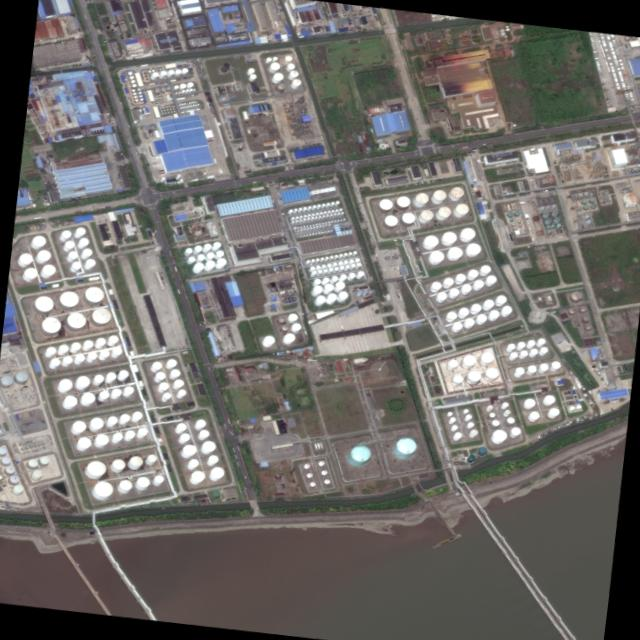storage-tank: (394, 436, 416, 455), (32, 294, 53, 313), (57, 289, 78, 308), (348, 444, 370, 462), (90, 306, 110, 325), (64, 311, 85, 329), (83, 285, 104, 303), (40, 316, 60, 334), (92, 480, 113, 497), (85, 460, 106, 477), (440, 230, 456, 244), (446, 245, 462, 259), (459, 226, 474, 240), (491, 428, 506, 442), (464, 242, 480, 255), (422, 234, 438, 247), (394, 195, 409, 208), (79, 391, 94, 404), (93, 433, 108, 446), (75, 436, 90, 449), (180, 443, 195, 456), (88, 416, 103, 429), (208, 466, 223, 479), (40, 263, 55, 276), (436, 205, 450, 218), (75, 375, 89, 388), (71, 420, 85, 433), (31, 234, 45, 247), (400, 211, 414, 224), (413, 192, 428, 204), (377, 198, 392, 210), (428, 250, 443, 262), (57, 378, 72, 390), (110, 458, 125, 470), (62, 395, 77, 407), (13, 370, 28, 382), (200, 440, 215, 452), (418, 208, 433, 220), (382, 214, 397, 226), (449, 186, 463, 198), (431, 189, 445, 201), (454, 203, 468, 215), (461, 354, 475, 366), (466, 370, 480, 382), (128, 455, 142, 467), (135, 476, 149, 488), (117, 479, 131, 491), (189, 470, 203, 482), (479, 351, 493, 363), (36, 249, 50, 261), (17, 252, 31, 264), (22, 267, 36, 279), (484, 367, 497, 379), (0, 374, 13, 386), (569, 290, 581, 301), (523, 397, 534, 408), (542, 394, 554, 404), (262, 335, 274, 345), (282, 332, 294, 342), (485, 274, 496, 284), (268, 61, 279, 71), (110, 387, 121, 397), (194, 418, 205, 428), (482, 298, 493, 308), (457, 306, 468, 316), (429, 281, 441, 290), (81, 339, 93, 348), (48, 357, 60, 366), (86, 350, 96, 360), (528, 410, 538, 420), (38, 455, 48, 465), (131, 410, 141, 420), (124, 429, 134, 439), (337, 290, 347, 300), (435, 291, 446, 300), (454, 273, 465, 282), (472, 279, 483, 288), (466, 269, 477, 278), (479, 264, 490, 273), (457, 36, 468, 45), (165, 358, 176, 367), (150, 361, 161, 370), (172, 378, 183, 387), (69, 341, 80, 350), (97, 390, 108, 399), (110, 346, 121, 355), (98, 349, 109, 358), (73, 353, 84, 362), (92, 374, 103, 383), (446, 359, 457, 368), (451, 374, 462, 383), (547, 407, 558, 416), (509, 426, 520, 435), (152, 474, 163, 483), (26, 458, 37, 467), (31, 469, 42, 478), (0, 455, 11, 464), (8, 474, 19, 483), (136, 427, 147, 436), (118, 413, 129, 422), (111, 432, 122, 441), (178, 432, 189, 441), (206, 454, 217, 463), (77, 237, 88, 246), (445, 311, 456, 320), (500, 305, 511, 314), (475, 313, 486, 322), (451, 321, 462, 330), (513, 366, 524, 375), (94, 337, 105, 346), (286, 312, 297, 321), (460, 283, 470, 292), (442, 277, 452, 286), (448, 287, 458, 296), (272, 72, 282, 81), (57, 344, 67, 353), (169, 368, 179, 377), (154, 371, 164, 380), (157, 381, 167, 390), (45, 346, 55, 355), (61, 355, 71, 364), (117, 369, 127, 378), (105, 371, 115, 380), (123, 385, 133, 394), (145, 453, 155, 462), (4, 465, 14, 474), (187, 458, 197, 467), (106, 415, 116, 424), (175, 422, 185, 431), (198, 429, 208, 438), (81, 248, 91, 257), (63, 240, 73, 249), (67, 250, 77, 259), (215, 257, 225, 266), (204, 259, 214, 268), (326, 292, 336, 301), (315, 295, 325, 304), (470, 303, 480, 312), (488, 309, 498, 318), (463, 317, 473, 326), (550, 360, 560, 369), (84, 258, 94, 267), (107, 334, 117, 343), (290, 322, 300, 331), (12, 484, 23, 492), (495, 295, 506, 303), (60, 230, 71, 238), (538, 362, 547, 371), (526, 364, 535, 373), (469, 35, 479, 43), (334, 281, 344, 289), (323, 283, 333, 291), (74, 227, 84, 235), (193, 262, 203, 270), (70, 261, 80, 269), (312, 285, 322, 293), (288, 69, 297, 77), (291, 78, 300, 86), (176, 388, 185, 396), (452, 431, 461, 439), (192, 244, 201, 252), (205, 251, 213, 259), (536, 337, 544, 345), (277, 315, 285, 323), (280, 323, 288, 331), (161, 392, 170, 399), (468, 429, 477, 436), (505, 417, 514, 424), (477, 446, 486, 453), (211, 241, 220, 248), (195, 253, 204, 260), (538, 346, 547, 353), (528, 348, 537, 355), (518, 349, 527, 356), (508, 351, 517, 358), (490, 419, 498, 426), (202, 243, 210, 250), (214, 250, 222, 257), (526, 339, 534, 346), (516, 341, 524, 348), (506, 343, 514, 350), (596, 353, 604, 360), (0, 446, 6, 455), (467, 454, 474, 461), (283, 55, 291, 61), (286, 63, 294, 69), (276, 83, 284, 89), (246, 67, 254, 73), (211, 490, 219, 496), (312, 278, 320, 284), (579, 306, 586, 312), (581, 316, 588, 322), (622, 35, 629, 41), (248, 73, 255, 79), (180, 67, 187, 73), (166, 69, 173, 75), (159, 70, 166, 76), (151, 71, 158, 77), (552, 216, 559, 222), (450, 424, 457, 430), (466, 421, 473, 427), (485, 404, 492, 410), (487, 412, 494, 418), (317, 460, 324, 466), (319, 469, 326, 475), (339, 274, 346, 280), (330, 275, 337, 281), (322, 277, 329, 283), (184, 247, 191, 253), (187, 256, 194, 262), (347, 272, 354, 278), (356, 270, 363, 276), (568, 307, 574, 313), (186, 81, 192, 87), (174, 68, 180, 74), (503, 409, 509, 415), (302, 463, 308, 469), (308, 481, 314, 487), (178, 83, 185, 88), (580, 198, 587, 203), (542, 211, 549, 216), (544, 217, 551, 222), (500, 402, 507, 407), (464, 414, 471, 419), (448, 417, 455, 422), (322, 479, 329, 484), (154, 87, 160, 92), (172, 84, 178, 89), (159, 87, 165, 92), (223, 62, 229, 67), (588, 197, 594, 202), (582, 204, 588, 209), (585, 219, 591, 224), (551, 210, 557, 215), (513, 210, 519, 215), (506, 211, 512, 216), (356, 289, 362, 294), (575, 404, 581, 409), (305, 473, 311, 478), (584, 324, 590, 329), (265, 56, 270, 61), (590, 203, 595, 208), (584, 213, 589, 218), (362, 288, 367, 293), (568, 405, 573, 410), (462, 408, 467, 413), (446, 411, 451, 416), (353, 257, 358, 262), (126, 71, 132, 75), (271, 56, 277, 60), (336, 261, 342, 265), (325, 263, 331, 267), (629, 36, 635, 40), (334, 200, 339, 204), (511, 225, 516, 229), (128, 75, 133, 79), (129, 79, 134, 83), (130, 83, 135, 87), (636, 84, 640, 89), (538, 205, 543, 209), (575, 206, 580, 210), (550, 203, 555, 207), (337, 253, 342, 257), (367, 289, 372, 293), (304, 259, 309, 263), (355, 262, 360, 266), (348, 259, 353, 263), (349, 263, 354, 267), (342, 260, 347, 264), (338, 265, 343, 269), (331, 262, 336, 266), (327, 267, 332, 271), (322, 268, 327, 272), (314, 265, 319, 269), (316, 269, 321, 273), (309, 266, 314, 270), (310, 270, 315, 274), (538, 262, 543, 266), (593, 367, 598, 371), (329, 201, 333, 205), (311, 204, 315, 208), (306, 205, 310, 209), (160, 176, 164, 180), (352, 250, 356, 254), (342, 252, 346, 256), (165, 86, 169, 90), (130, 88, 134, 92), (556, 223, 560, 227), (633, 168, 637, 172), (347, 251, 351, 255), (333, 254, 337, 258), (537, 257, 541, 261), (310, 258, 314, 262), (344, 264, 348, 268), (333, 266, 337, 270), (320, 264, 324, 268), (540, 266, 544, 270), (287, 209, 292, 212), (544, 205, 549, 208), (508, 218, 513, 221), (595, 371, 600, 374), (301, 206, 305, 209), (325, 202, 329, 205), (320, 203, 324, 206), (316, 203, 319, 207), (297, 207, 301, 210), (292, 208, 296, 211), (517, 223, 521, 226), (510, 223, 514, 226), (176, 174, 180, 177), (298, 215, 302, 218), (301, 217, 305, 220), (137, 91, 141, 94), (131, 92, 135, 95), (184, 88, 188, 91), (180, 89, 184, 92), (137, 94, 141, 97), (549, 224, 553, 227), (629, 169, 633, 172), (132, 95, 136, 98), (133, 98, 137, 101), (138, 97, 142, 100), (24, 445, 28, 448), (20, 446, 24, 449), (328, 255, 332, 258), (319, 257, 323, 260), (314, 258, 318, 261), (536, 254, 540, 257), (573, 322, 577, 325), (572, 318, 576, 321), (288, 297, 292, 300), (330, 209, 333, 212), (318, 211, 321, 214), (314, 212, 317, 215), (306, 213, 309, 216), (302, 214, 305, 217), (290, 216, 293, 219), (339, 211, 342, 214), (321, 214, 324, 217), (317, 215, 320, 218), (294, 219, 297, 222), (517, 220, 520, 223), (136, 88, 139, 91), (188, 88, 191, 91), (150, 69, 153, 72), (154, 68, 157, 71), (545, 225, 548, 228), (29, 444, 32, 447), (41, 441, 44, 444), (37, 442, 40, 445), (33, 443, 36, 446), (18, 441, 21, 444), (324, 256, 327, 259), (281, 290, 284, 293), (292, 296, 295, 299), (285, 298, 288, 301), (146, 70, 150, 72), (234, 83, 238, 85), (294, 216, 297, 218), (338, 208, 341, 210), (334, 209, 337, 211), (326, 210, 329, 212), (322, 211, 325, 213), (310, 213, 313, 215), (301, 123, 304, 125), (621, 187, 624, 189), (292, 226, 295, 228), (311, 226, 314, 228), (305, 227, 308, 229), (329, 229, 332, 231), (310, 232, 313, 234), (307, 233, 310, 235), (294, 235, 297, 237), (295, 226, 298, 228), (301, 225, 304, 227), (336, 212, 339, 214), (332, 213, 335, 215), (328, 213, 331, 215), (325, 214, 328, 216), (313, 216, 316, 218), (310, 216, 313, 218), (306, 217, 309, 219), (298, 219, 301, 221), (290, 220, 293, 222), (329, 220, 332, 222), (142, 72, 145, 74), (143, 75, 146, 77), (144, 78, 147, 80), (191, 88, 194, 90), (157, 68, 160, 70), (235, 86, 238, 88), (155, 97, 157, 100), (626, 186, 629, 188), (638, 168, 640, 171), (278, 291, 281, 293), (286, 289, 289, 291), (302, 125, 304, 127), (327, 223, 329, 225), (324, 224, 326, 226), (321, 224, 323, 226), (318, 225, 320, 227), (315, 225, 317, 227), (309, 226, 311, 228), (299, 228, 301, 230), (296, 229, 298, 231), (323, 230, 325, 232), (320, 231, 322, 233), (317, 231, 319, 233), (314, 232, 316, 234), (302, 234, 304, 236), (298, 235, 300, 237), (342, 218, 344, 220), (336, 219, 338, 221), (326, 220, 328, 222), (323, 221, 325, 223), (320, 222, 322, 224), (317, 222, 319, 224), (314, 223, 316, 225), (311, 223, 313, 225), (308, 224, 310, 226), (624, 187, 626, 189), (158, 97, 160, 99), (177, 91, 179, 93), (160, 94, 162, 96), (157, 94, 159, 96), (154, 95, 156, 97), (196, 103, 198, 105), (191, 104, 193, 106), (190, 101, 192, 103), (187, 101, 189, 103), (158, 107, 160, 109), (160, 112, 162, 114), (161, 106, 163, 108), (162, 109, 164, 111), (163, 112, 165, 114), (166, 111, 168, 113), (169, 111, 171, 113), (168, 108, 170, 110), (167, 105, 169, 107), (171, 107, 173, 109), (172, 110, 174, 112), (177, 103, 179, 105), (179, 106, 181, 108), (180, 103, 182, 105), (181, 106, 183, 108), (182, 102, 184, 104), (183, 105, 185, 107), (186, 105, 188, 107), (282, 299, 284, 301), (304, 234, 307, 235), (338, 219, 341, 220), (293, 230, 295, 231), (302, 228, 304, 229), (326, 230, 328, 231), (299, 226, 300, 228), (305, 225, 307, 226), (332, 220, 334, 221), (174, 92, 176, 93), (160, 68, 162, 69), (161, 97, 163, 98), (193, 104, 195, 105), (192, 101, 194, 102), (159, 110, 161, 111), (164, 106, 166, 107), (165, 109, 167, 110), (170, 105, 172, 106), (189, 105, 190, 106)
